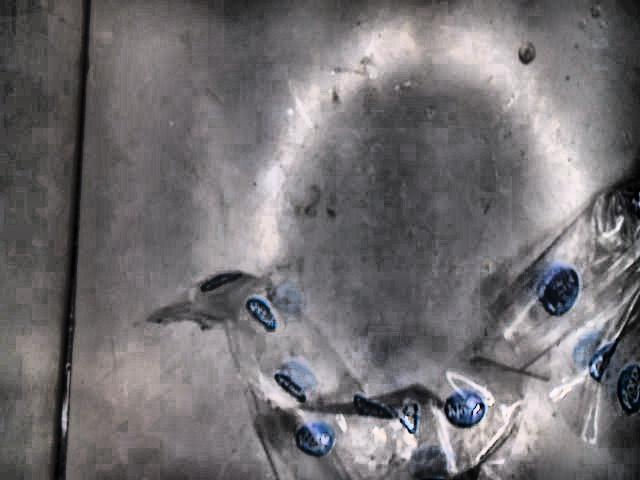Plastic: (145, 182, 640, 480)
